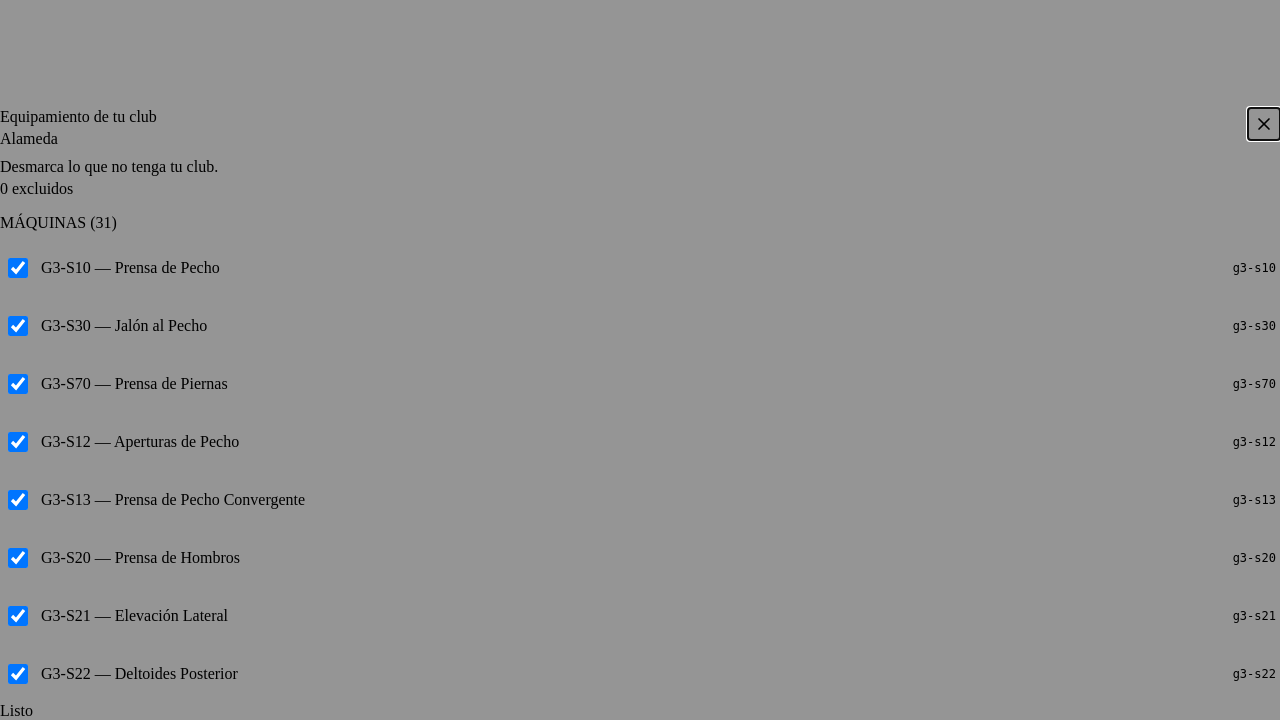
Scenario: toggling exclusions (R7.1, R7.4, R7.5, AC43) › unticking marks an item excluded and updates the live count
The image size is (1280, 720).
Click the checkbox labelled "G3-S10 — Prensa de Pecho g3-s10": (18, 268) [8,258,28,278]
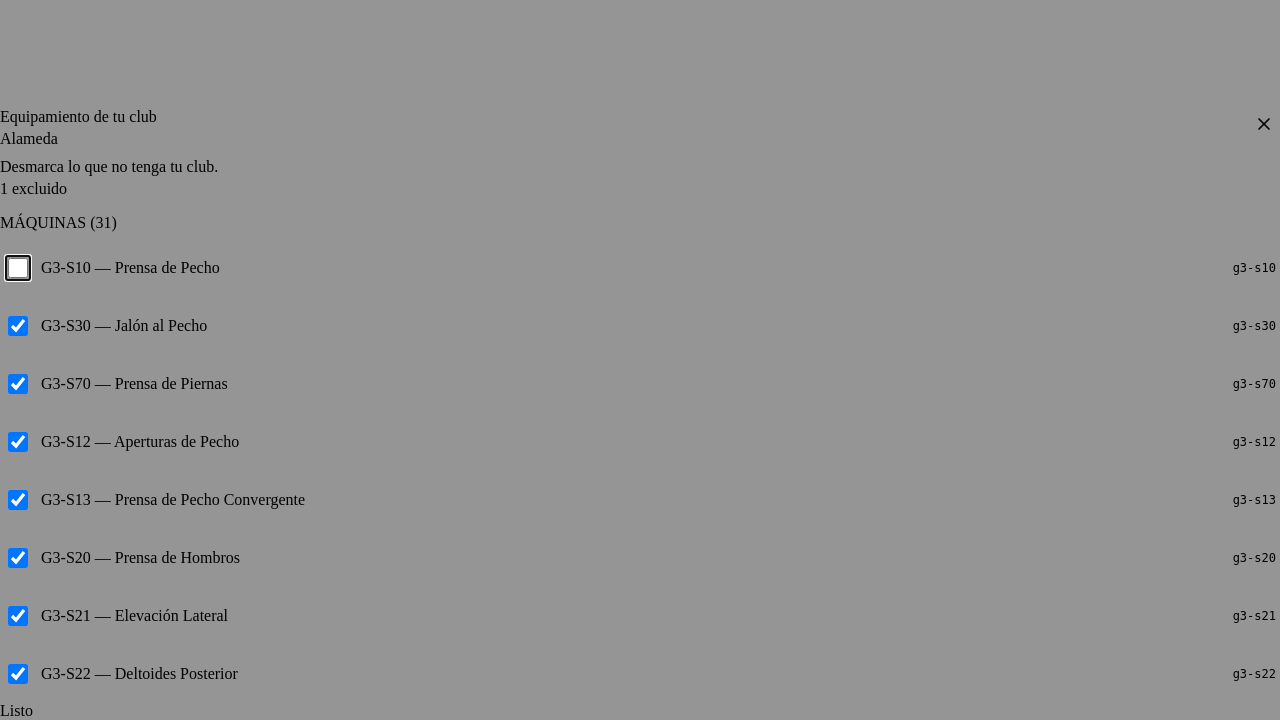
Now the checkbox labelled "G3-S10 — Prensa de Pecho g3-s10" is not checked, box [8,258,28,278]
Now the text "1 excluido" is shown, box [0,180,67,197]
